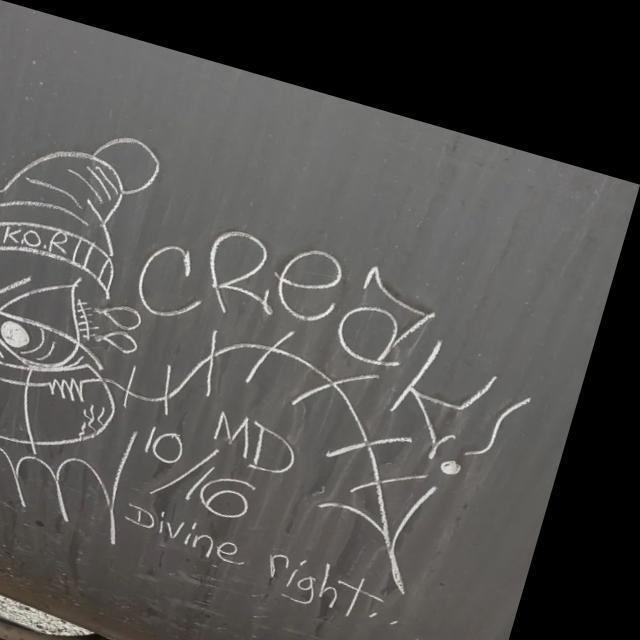-: (0, 73, 585, 640)
